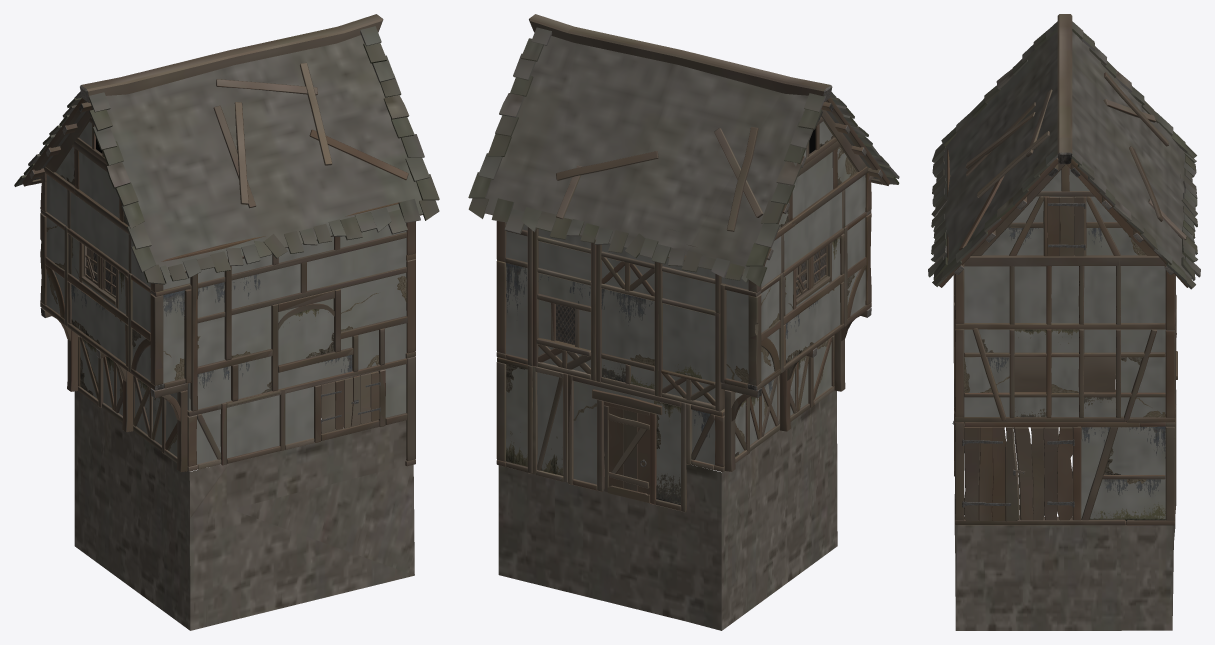
The model's file is House_Five.glb.
3 renders of one model, left to right at view 1: azimuth 30°, elevation 25°; view 2: azimuth 150°, elevation 25°; view 3: azimuth 270°, elevation 25°, orthographic. The views are drawn at different scales.
Visible parts, largest first — view 1: SM_House_Five; view 2: SM_House_Five; view 3: SM_House_Five.
Boxes of the visible parts, bbox=[...] form: SM_House_Five: bbox=[14, 14, 439, 630]; SM_House_Five: bbox=[468, 14, 899, 630]; SM_House_Five: bbox=[928, 14, 1200, 630].
Size of the model in its own units: 8.75 by 14.13 by 7.13.
Materials: 9 (8 with a texture image).
